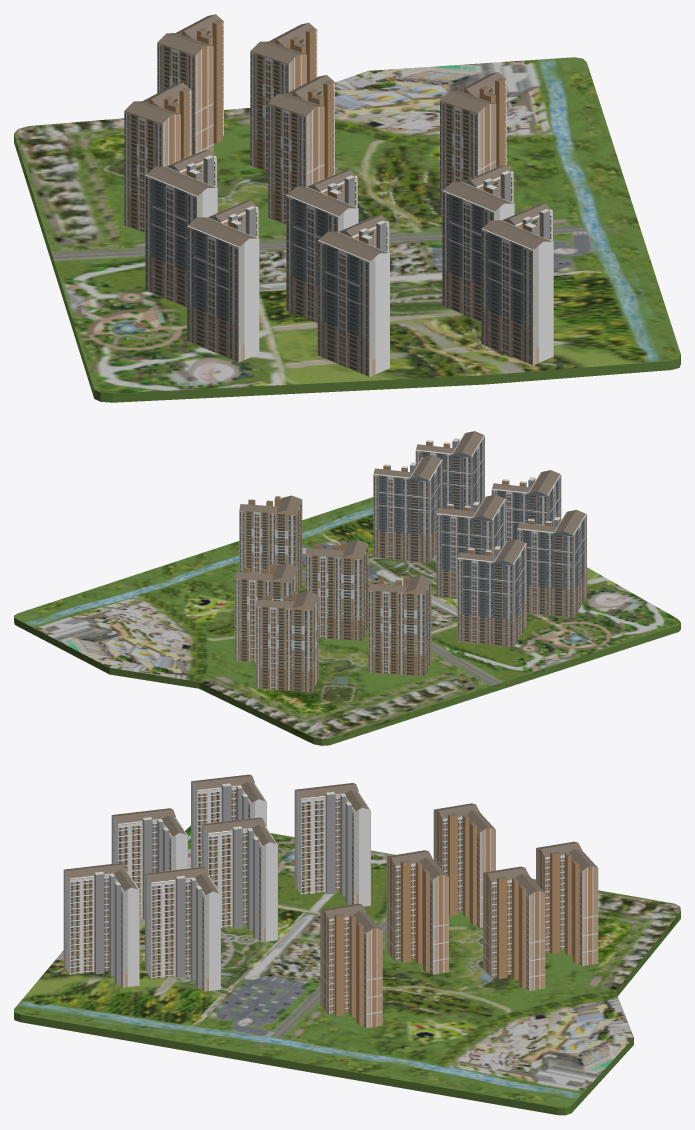
Rendered from ICJ00105.glb.
The picture shows the model from 3 angles, top to bottom: view 1: azimuth 30°, elevation 25°; view 2: azimuth 150°, elevation 25°; view 3: azimuth 270°, elevation 25°; orthographic projection. The views are drawn at different scales.
Visible parts, largest first — view 1: MainBuilding; view 2: MainBuilding; view 3: MainBuilding.
Boxes of the visible parts, <box> form: MainBuilding: <box>14,14,680,402</box>; MainBuilding: <box>14,431,680,745</box>; MainBuilding: <box>14,774,680,1115</box>.
Bounding box in the file's own units: 3570 × 623 × 3515.
Materials: 1 (1 with a texture image).
